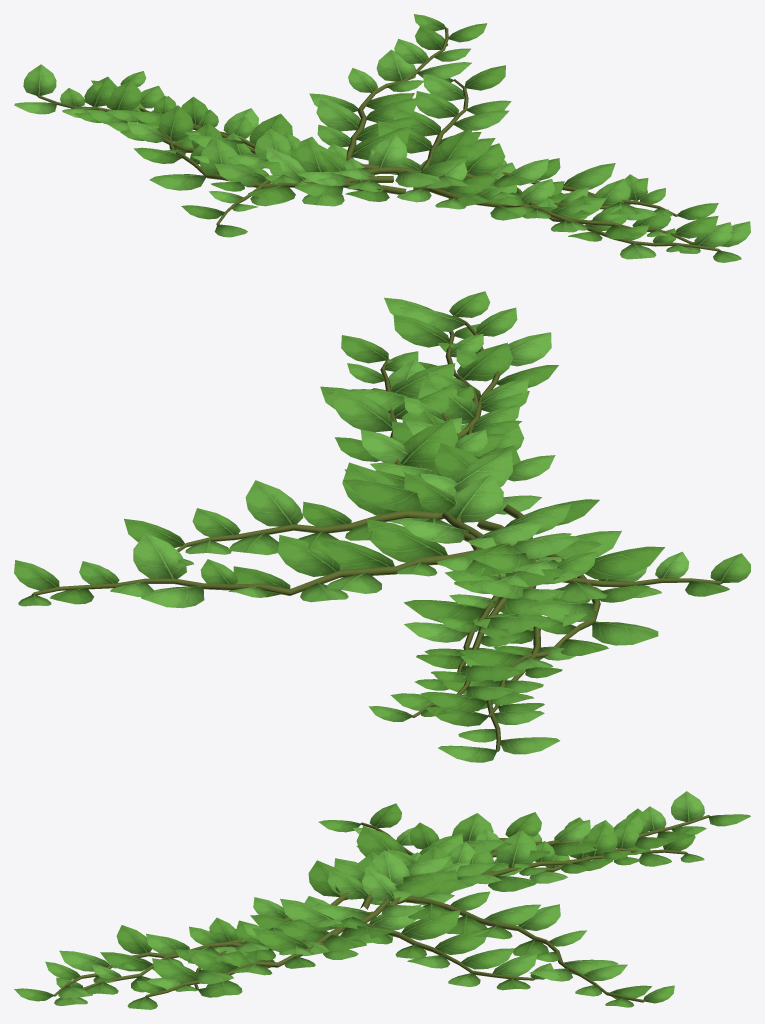
The model's file is creeper1.glb.
3 renders of one model, top to bottom at view 1: azimuth 30°, elevation 25°; view 2: azimuth 150°, elevation 25°; view 3: azimuth 270°, elevation 25°, orthographic. The views are drawn at different scales.
Visible parts, largest first — view 1: creeper1_leaves_LOD0, creeper1_vines_LOD0; view 2: creeper1_leaves_LOD0, creeper1_vines_LOD0; view 3: creeper1_leaves_LOD0, creeper1_vines_LOD0.
Part boxes in pixels (x1,y1,x2,y2): creeper1_leaves_LOD0: (14,14,750,262); creeper1_vines_LOD0: (37,27,720,251); creeper1_leaves_LOD0: (14,291,750,762); creeper1_vines_LOD0: (31,315,722,751); creeper1_leaves_LOD0: (14,791,750,1009); creeper1_vines_LOD0: (54,815,709,1002).
Size of what is drawn, in the model's own units: 1.16 by 0.0629 by 1.68.
Materials: 2 (1 with a texture image).
